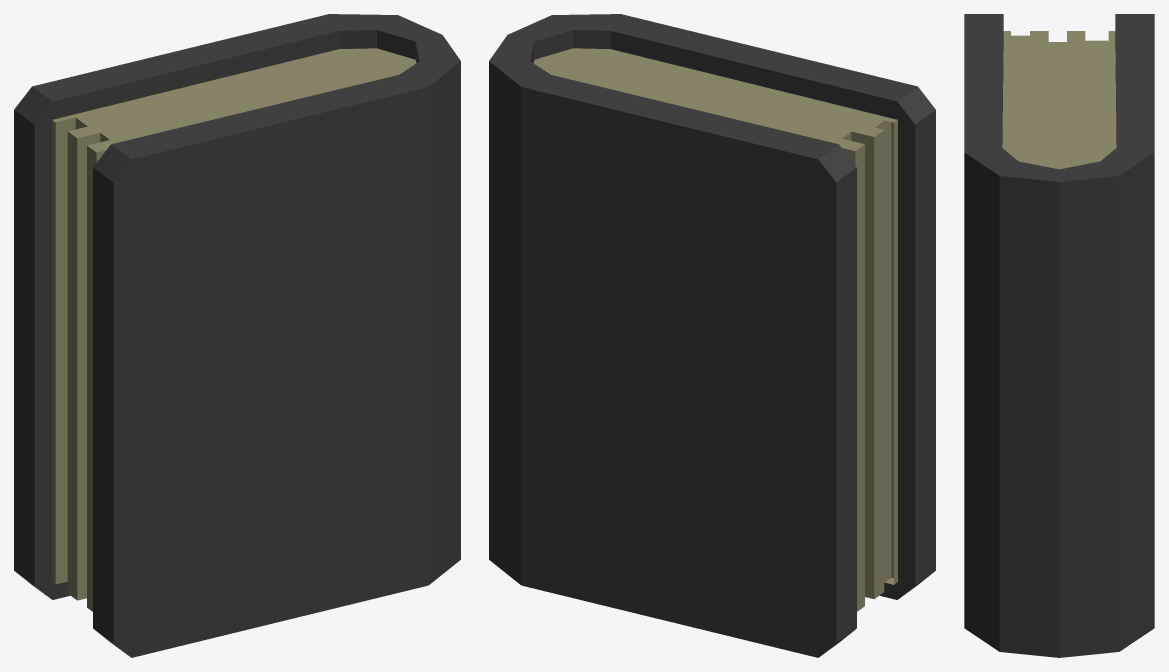
The model's file is book3.glb.
3 views of the same model, side by side, from view 1: azimuth 30°, elevation 25°; view 2: azimuth 150°, elevation 25°; view 3: azimuth 270°, elevation 25° (orthographic). The views are drawn at different scales.
Parts seen in each view (by area): view 1: cover, pages; view 2: cover, pages; view 3: cover, pages.
Boxes of the visible parts, x1=… form: cover: x1=14, y1=14, x2=460, y2=657; pages: x1=52, y1=48, x2=416, y2=611; cover: x1=489, y1=14, x2=935, y2=657; pages: x1=533, y1=48, x2=897, y2=611; cover: x1=964, y1=14, x2=1154, y2=657; pages: x1=1002, y1=31, x2=1116, y2=169.
Bounding box in the file's own units: 1.59 × 2 × 0.7242.
